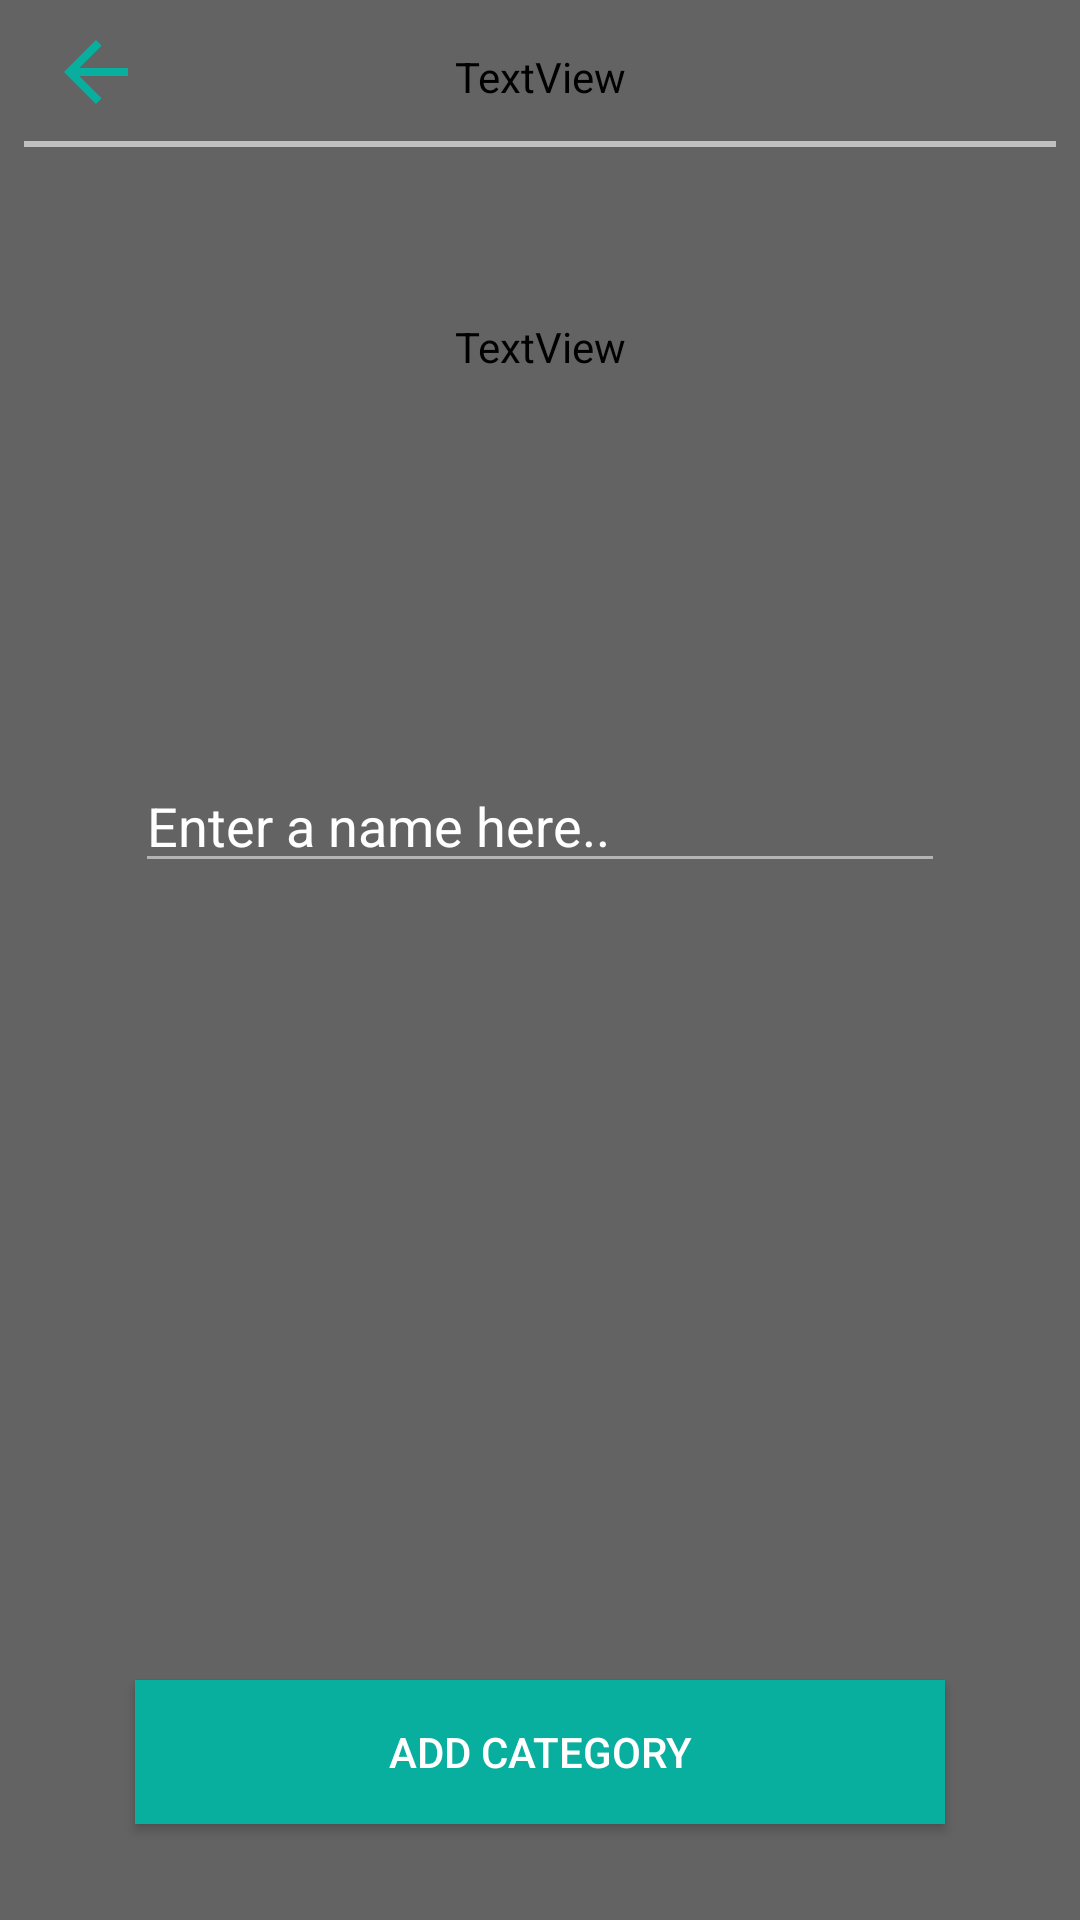

Locate icon controls on the screen. Image size 1080 x 1920, boxes as bbox=(x1, y1, x2, y2).
arrow back mintgreen: bbox=(64, 40, 128, 104)
